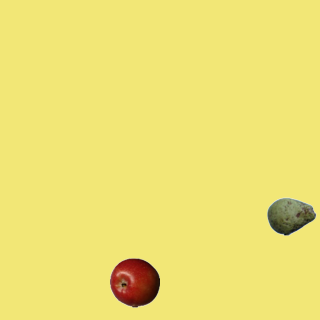Apple Braeburn: (109, 257, 159, 307)
Pear Stone: (266, 191, 316, 241)
